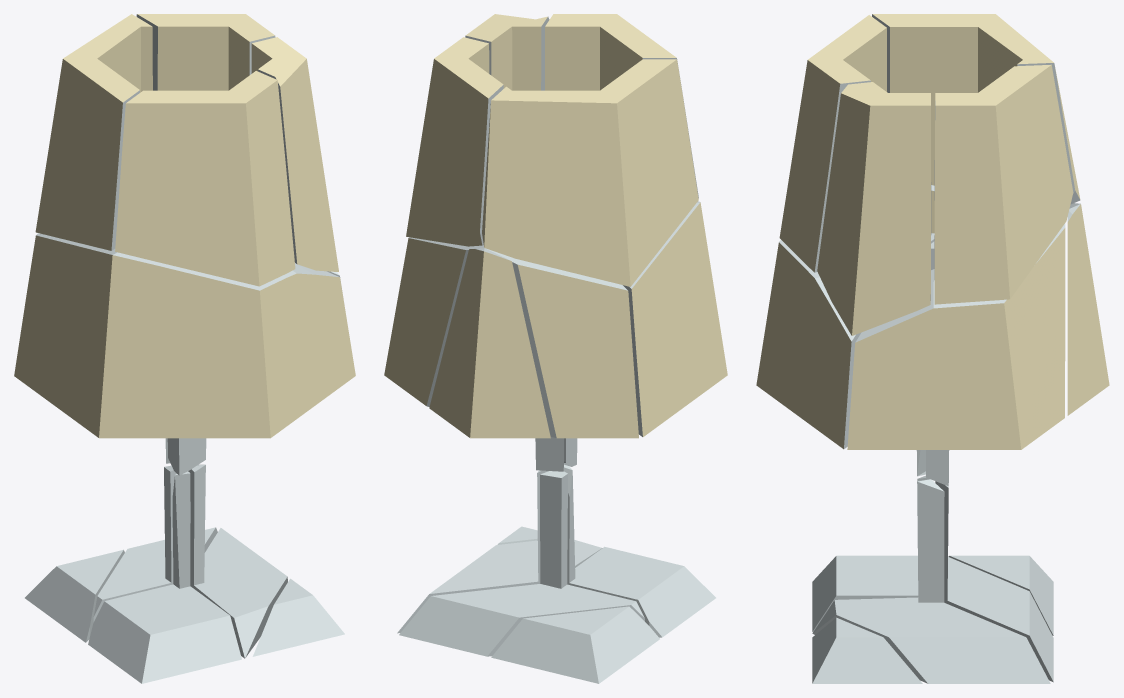
File: lamp_broken.glb
3 renders of one model, left to right at view 1: azimuth 30°, elevation 25°; view 2: azimuth 150°, elevation 25°; view 3: azimuth 270°, elevation 25°, orthographic. The views are drawn at different scales.
Parts seen in each view (by area): view 1: lampRoundTable(Clone)_cell.013, lampRoundTable(Clone)_cell.003, lampRoundTable(Clone)_cell.009, lampRoundTable(Clone)_cell.006, lampRoundTable(Clone)_cell.011, lampRoundTable(Clone)_cell.008, lampRoundTable(Clone)_cell.007, lampRoundTable(Clone)_cell, lampRoundTable(Clone)_cell.001, lampRoundTable(Clone)_cell.010, lampRoundTable(Clone)_cell.005; view 2: lampRoundTable(Clone)_cell.009, lampRoundTable(Clone)_cell.002, lampRoundTable(Clone)_cell.004, lampRoundTable(Clone)_cell.013, lampRoundTable(Clone)_cell.008, lampRoundTable(Clone)_cell.001, lampRoundTable(Clone)_cell, lampRoundTable(Clone)_cell.006, lampRoundTable(Clone)_cell.003, lampRoundTable(Clone)_cell.007, lampRoundTable(Clone)_cell.011, lampRoundTable(Clone)_cell.012; view 3: lampRoundTable(Clone)_cell.002, lampRoundTable(Clone)_cell.008, lampRoundTable(Clone)_cell.011, lampRoundTable(Clone)_cell.007, lampRoundTable(Clone)_cell.013, lampRoundTable(Clone)_cell.009, lampRoundTable(Clone)_cell.003, lampRoundTable(Clone)_cell.004, lampRoundTable(Clone)_cell.001, lampRoundTable(Clone)_cell.010, lampRoundTable(Clone)_cell.006, lampRoundTable(Clone)_cell (+1 smaller).
Boxes of the visible parts, x1,y1,x2,y2 form: lampRoundTable(Clone)_cell.013: [14, 234, 355, 438]; lampRoundTable(Clone)_cell.003: [115, 71, 295, 286]; lampRoundTable(Clone)_cell.009: [35, 14, 152, 250]; lampRoundTable(Clone)_cell.006: [88, 471, 241, 683]; lampRoundTable(Clone)_cell.011: [251, 37, 338, 271]; lampRoundTable(Clone)_cell.008: [136, 14, 275, 90]; lampRoundTable(Clone)_cell.007: [188, 464, 287, 658]; lampRoundTable(Clone)_cell: [25, 549, 124, 642]; lampRoundTable(Clone)_cell.001: [93, 465, 217, 621]; lampRoundTable(Clone)_cell.010: [252, 578, 344, 656]; lampRoundTable(Clone)_cell.005: [167, 438, 206, 475]; lampRoundTable(Clone)_cell.009: [482, 59, 698, 286]; lampRoundTable(Clone)_cell.002: [384, 237, 638, 438]; lampRoundTable(Clone)_cell.004: [429, 248, 550, 438]; lampRoundTable(Clone)_cell.013: [623, 201, 727, 436]; lampRoundTable(Clone)_cell.008: [406, 37, 503, 246]; lampRoundTable(Clone)_cell.001: [399, 471, 644, 656]; lampRoundTable(Clone)_cell: [491, 606, 659, 683]; lampRoundTable(Clone)_cell.006: [563, 464, 715, 637]; lampRoundTable(Clone)_cell.003: [545, 14, 698, 198]; lampRoundTable(Clone)_cell.007: [397, 470, 602, 633]; lampRoundTable(Clone)_cell.011: [465, 14, 549, 90]; lampRoundTable(Clone)_cell.012: [535, 437, 563, 471]; lampRoundTable(Clone)_cell.002: [847, 223, 1065, 449]; lampRoundTable(Clone)_cell.008: [934, 64, 1073, 304]; lampRoundTable(Clone)_cell.011: [817, 82, 931, 335]; lampRoundTable(Clone)_cell.007: [812, 479, 1050, 683]; lampRoundTable(Clone)_cell.013: [756, 185, 934, 449]; lampRoundTable(Clone)_cell.009: [872, 14, 1080, 204]; lampRoundTable(Clone)_cell.003: [779, 15, 886, 272]; lampRoundTable(Clone)_cell.004: [1067, 203, 1109, 415]; lampRoundTable(Clone)_cell.001: [935, 481, 1053, 682]; lampRoundTable(Clone)_cell.010: [812, 617, 922, 683]; lampRoundTable(Clone)_cell.006: [812, 475, 929, 632]; lampRoundTable(Clone)_cell: [948, 555, 1053, 635].
Bounding box in the file's own units: 0.152 × 0.3142 × 0.1756.
